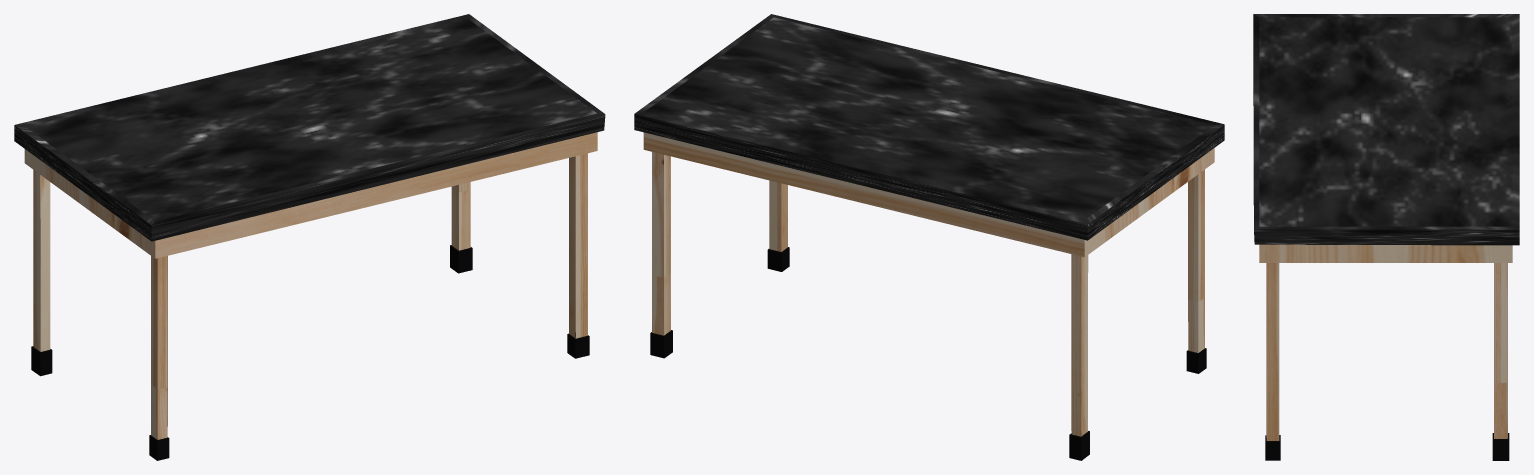
The model's file is table 1.fbx.
3 renders of one model, left to right at view 1: azimuth 30°, elevation 25°; view 2: azimuth 150°, elevation 25°; view 3: azimuth 270°, elevation 25°, orthographic. The views are drawn at different scales.
Parts seen in each view (by area): view 1: table; view 2: table; view 3: table.
Boxes of the visible parts, x1=… form: table: x1=14, y1=14, x2=605, y2=460; table: x1=634, y1=14, x2=1224, y2=460; table: x1=1253, y1=14, x2=1519, y2=460.
Size of the model in its own units: 2.11 by 1.08 by 1.1.
